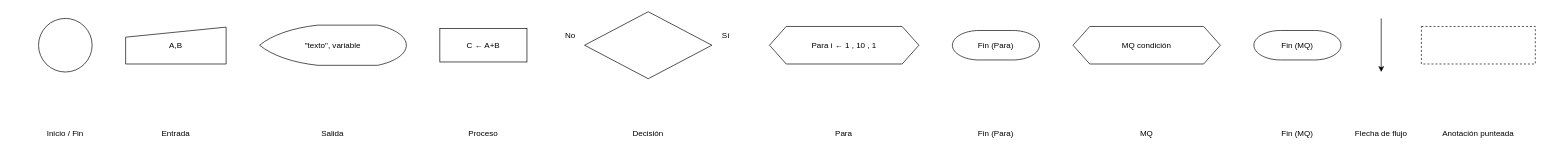
Image size: 1547x153. Some labels were removed from this diagram. The centre of each missing label's shape, as x and y in pixels:
"Anotación" goes at point 1478,45.
"condición" goes at point 648,45.
"Inicio" goes at point 65,45.
